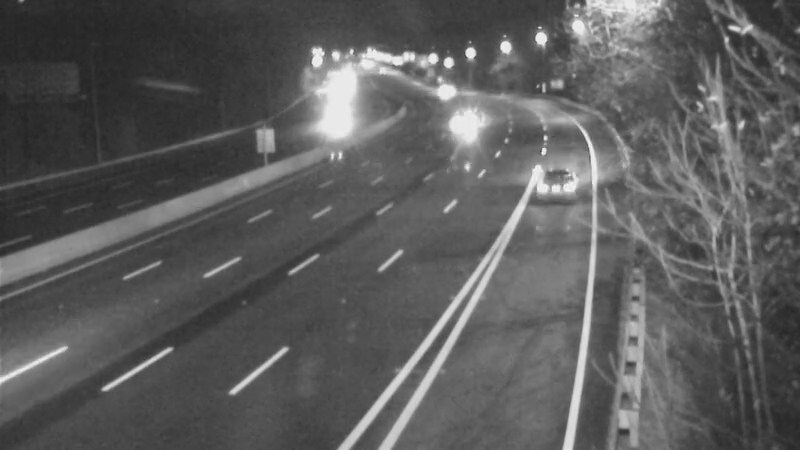vehicle: (511, 140, 591, 220), (415, 64, 465, 114), (434, 98, 484, 148), (302, 89, 352, 139)
